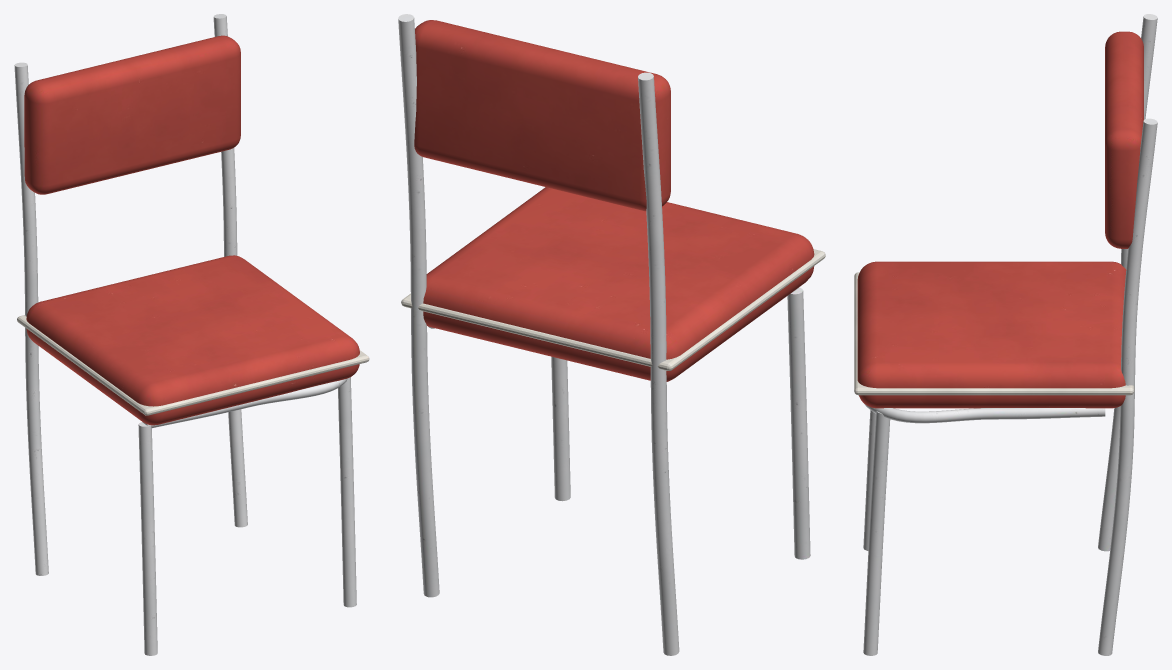
The model's file is np_dinette_chair_1k.fbx.
3 views of the same model, side by side, from view 1: azimuth 30°, elevation 25°; view 2: azimuth 150°, elevation 25°; view 3: azimuth 270°, elevation 25° (orthographic). The views are drawn at different scales.
Parts seen in each view (by area): view 1: np_dinette_chair; view 2: np_dinette_chair; view 3: np_dinette_chair.
Boxes of the visible parts, x1=… form: np_dinette_chair: x1=14, y1=14, x2=369, y2=655; np_dinette_chair: x1=398, y1=14, x2=825, y2=655; np_dinette_chair: x1=854, y1=14, x2=1157, y2=655.
Bounding box in the file's own units: 0.4378 × 0.9022 × 0.4659.
1 material, 1 textured.
